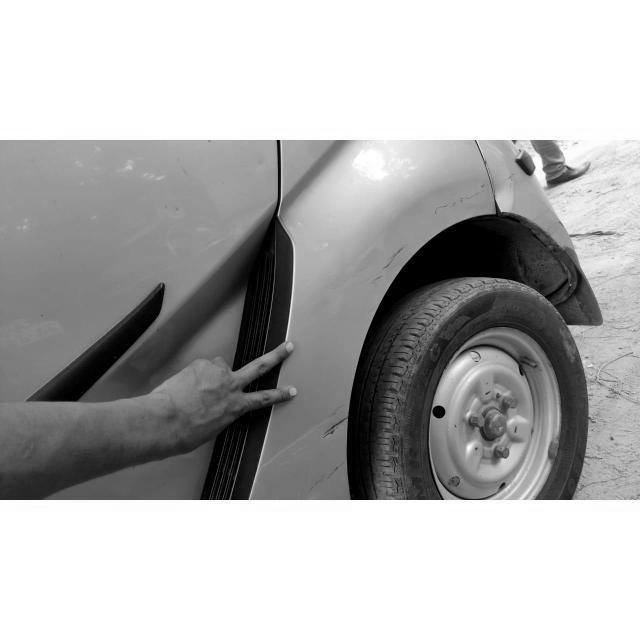quaterpanel-dent: (281, 143, 479, 483)
